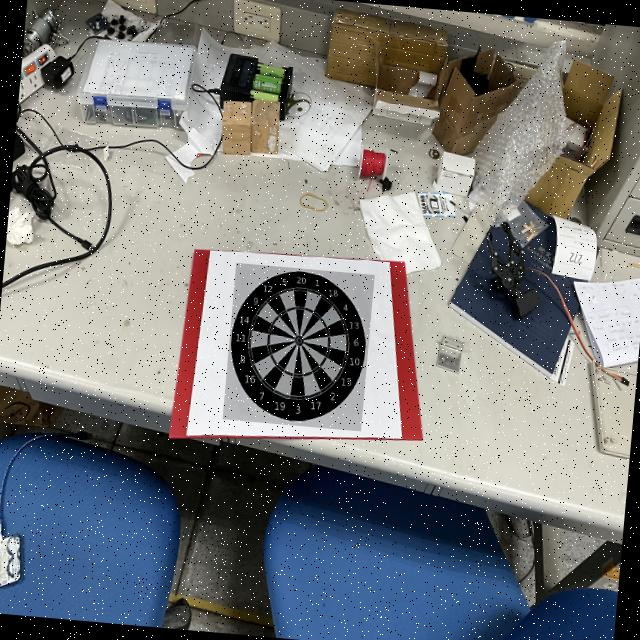archery-targets: (222, 262, 374, 431)
